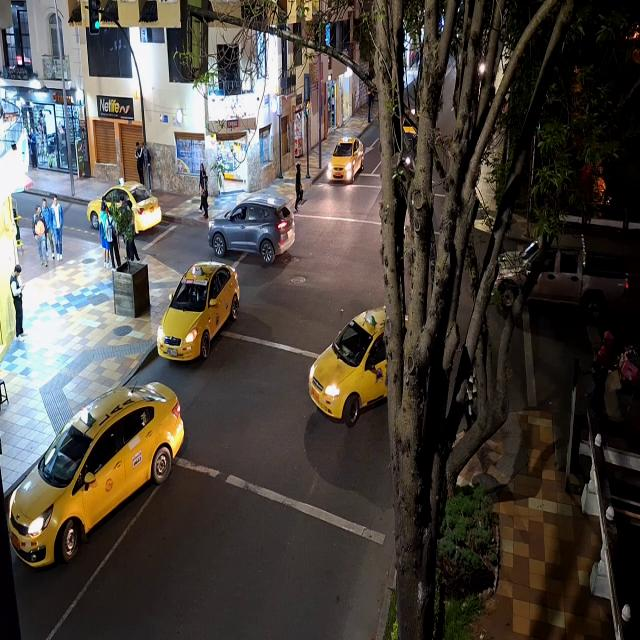CMT: (487, 230, 631, 312)
SED: (5, 382, 163, 560), (310, 308, 384, 413), (161, 264, 225, 358), (330, 138, 359, 182)
SUV: (210, 197, 296, 260)
